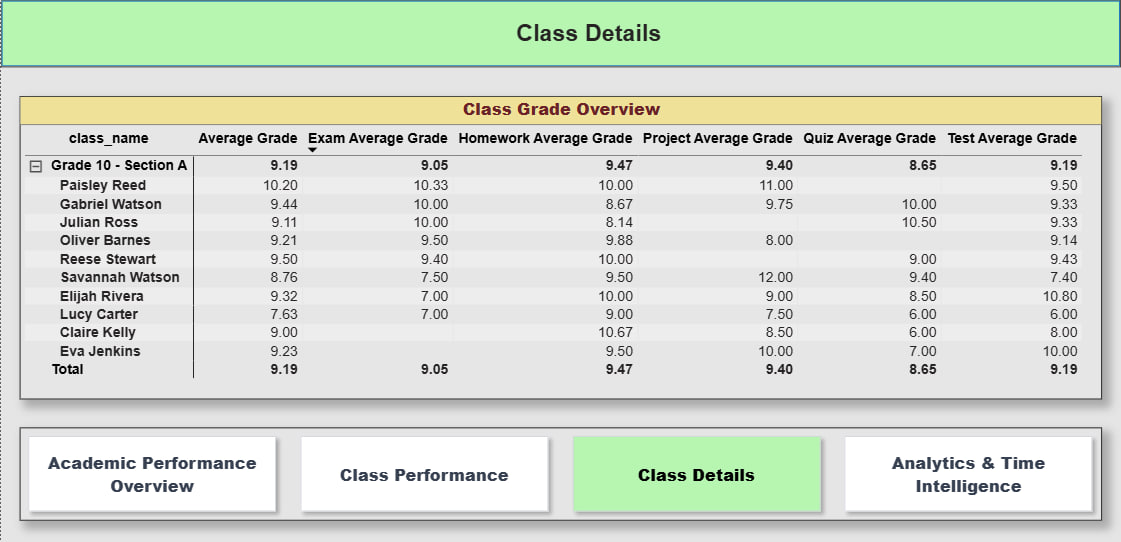

The page's visual inventory and layout, read from the dashboard file:
{"tool":"powerbi","page":{"name":"Class Details ","canvas":[1280,620],"ordinal":2},"visuals":[{"type":"pivotTable","title":"Class Grade Overview","fields":{"Values":["_Measures.Average Grade Measure","_Measures.Exam Average Grade Measure","_Measures.Homework Average Grade Measure","_Measures.Project Average Grade Measure","_Measures.Quiz Average Grade Measure","_Measures.Test Average Grade Measure"],"Rows":["classes.class_name","students.student_name"]},"box":[21.7,110,1236.7,346.7],"z":0},{"type":"actionButton","box":[0,0,100,40],"z":1000},{"type":"pageNavigator","box":[21.7,488.3,1236.7,106.7],"z":2000},{"type":"shape","title":"Analytics & Time Intelligence","box":[0,0,1280,76.7],"z":3000},{"type":"textbox","box":[458.3,0,386.7,76.7],"z":4000}]}

Visuals, with their boxes in screenshot pixels (x1, y1, x2, y2), scaled from the page's 1280x620 canvas onto the 1121x542 screenshot:
"Class Grade Overview" pivotTable: (19,96,1102,399)
actionButton: (0,0,88,35)
pageNavigator: (19,427,1102,520)
"Analytics & Time Intelligence" shape: (0,0,1120,67)
textbox: (401,0,740,67)
